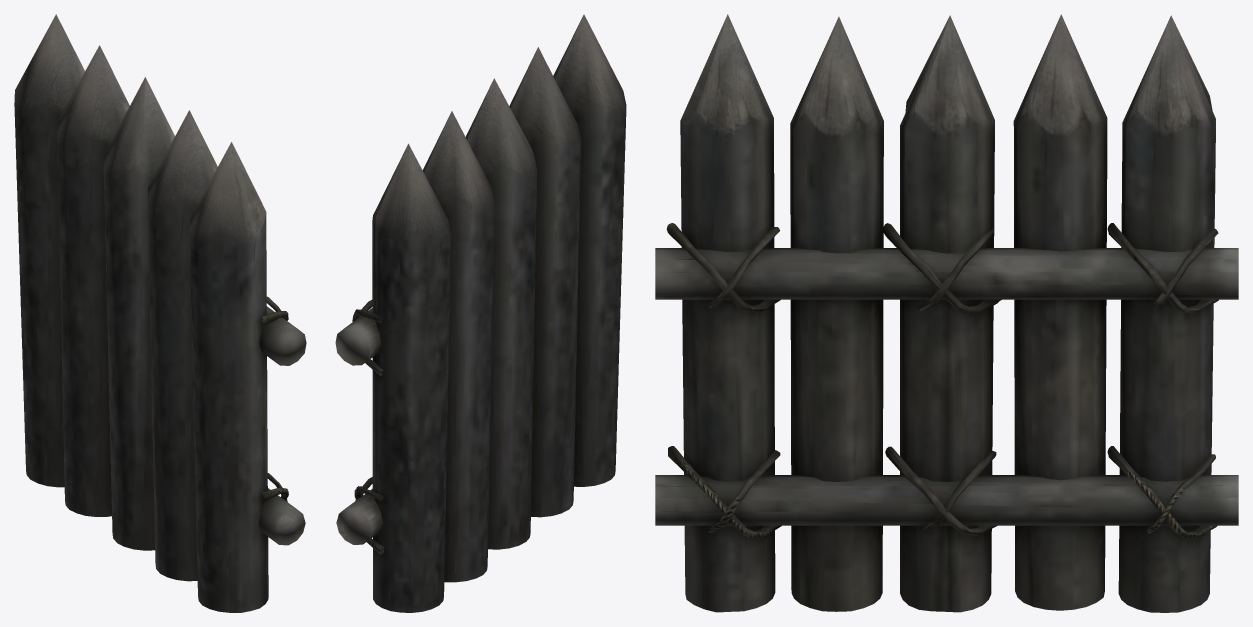
File: palisade.glb
3 renders of one model, left to right at view 1: azimuth 30°, elevation 25°; view 2: azimuth 150°, elevation 25°; view 3: azimuth 270°, elevation 25°, orthographic. The views are drawn at different scales.
Parts seen in each view (by area): view 1: model; view 2: model; view 3: model.
Part boxes in pixels (x1,y1,x2,y2): model: (14,14,306,612); model: (335,14,626,612); model: (655,14,1238,612).
Bounding box in the file's own units: 0.225 × 1 × 0.9139.
Materials: 1 (1 with a texture image).
